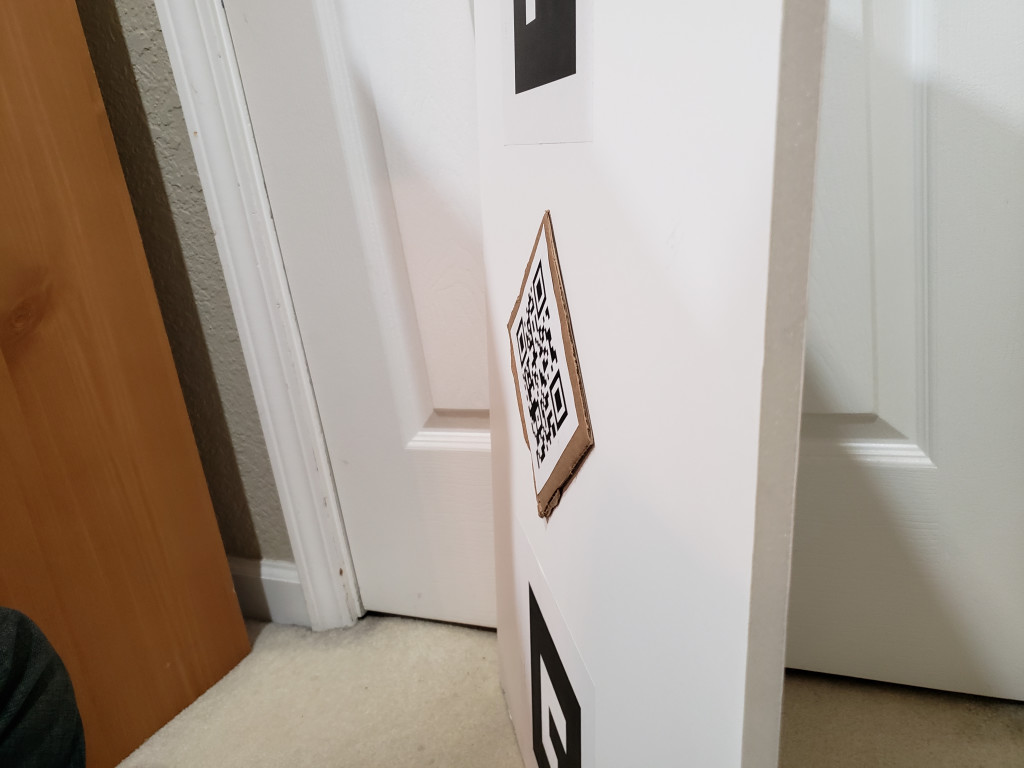QR_CODE: (498, 249, 580, 480)
